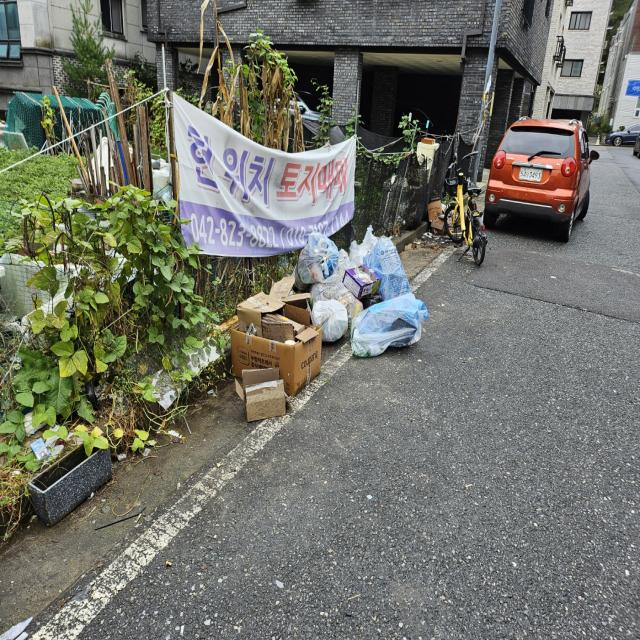General Waste: (299, 234, 424, 359), (236, 280, 324, 390)
